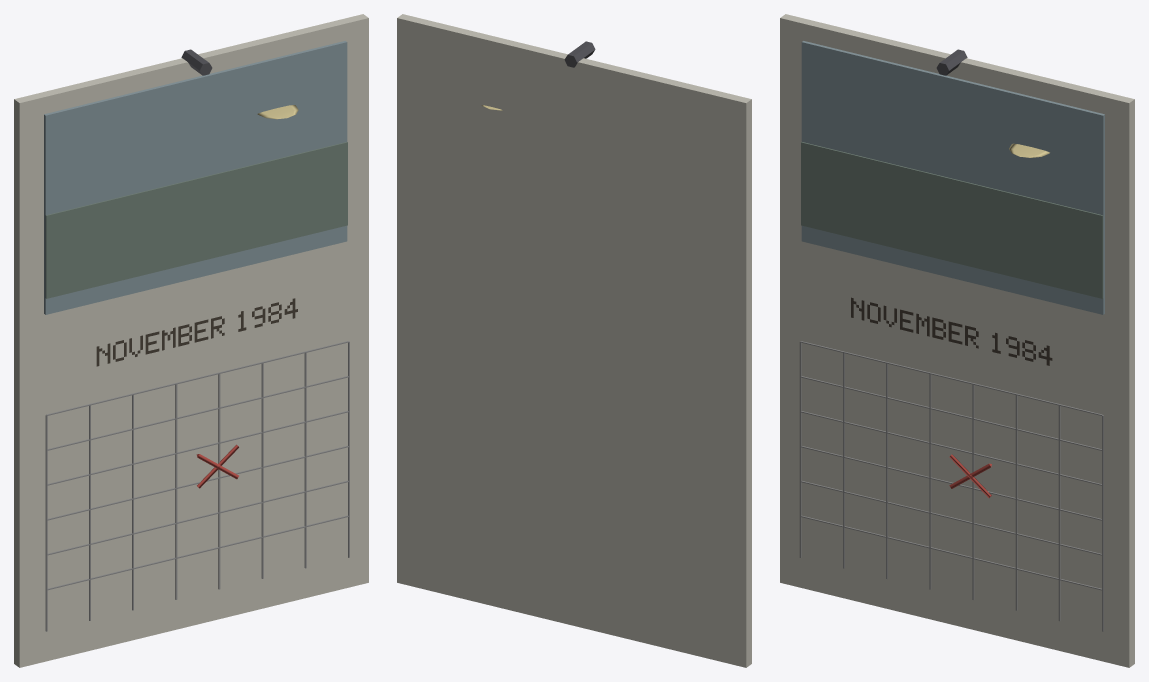
Rendered from cabin_calendar_a.glb.
3 renders of one model, left to right at view 1: azimuth 30°, elevation 25°; view 2: azimuth 150°, elevation 25°; view 3: azimuth 330°, elevation 25°, orthographic.
Parts seen in each view (by area): view 1: body; view 2: body; view 3: body.
Boxes of the visible parts, box(x1,y1,x2,y2) form: body: box(14, 14, 368, 667); body: box(397, 14, 751, 667); body: box(780, 14, 1134, 667).
Size of the model in its own units: 0.22 by 0.3435 by 0.024.
